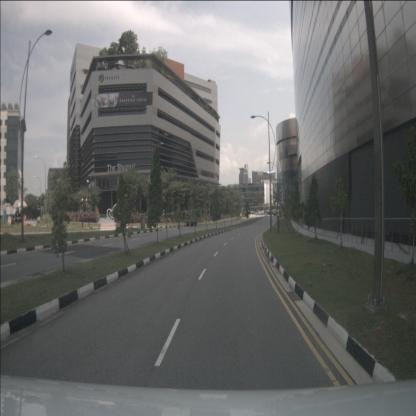movable_object-trafficcone: (30, 218, 34, 228), (22, 218, 26, 227), (9, 216, 12, 225), (182, 222, 185, 229), (189, 220, 191, 230)
vehicle-car: (185, 212, 198, 226)
